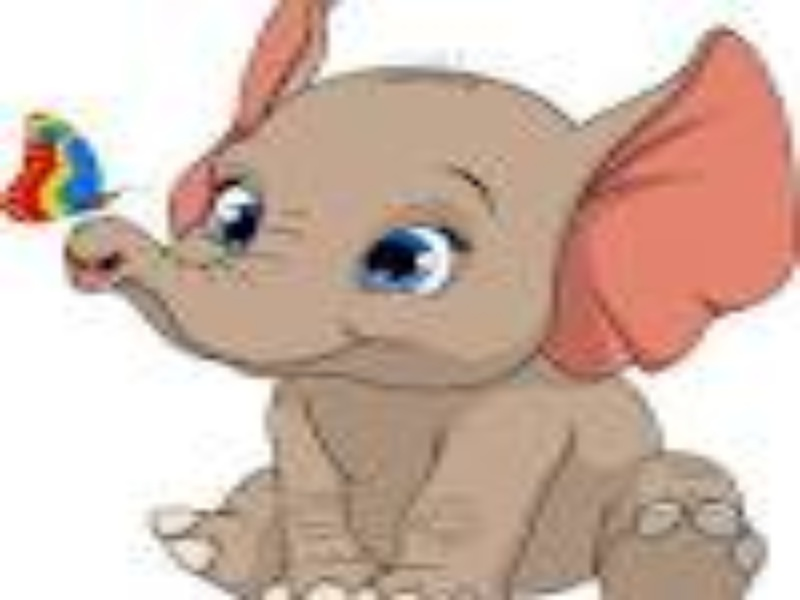elephant: (69, 32, 754, 578)
